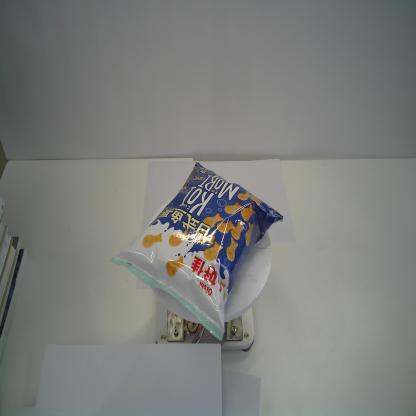Puffed Food: (109, 160, 283, 343)
